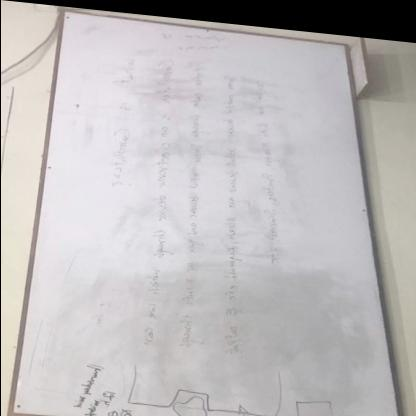Handwritten text: (140, 50, 177, 356), (179, 62, 211, 352), (215, 66, 243, 354), (243, 60, 281, 238), (105, 52, 137, 178)
Whiteboard: (8, 6, 405, 416)
